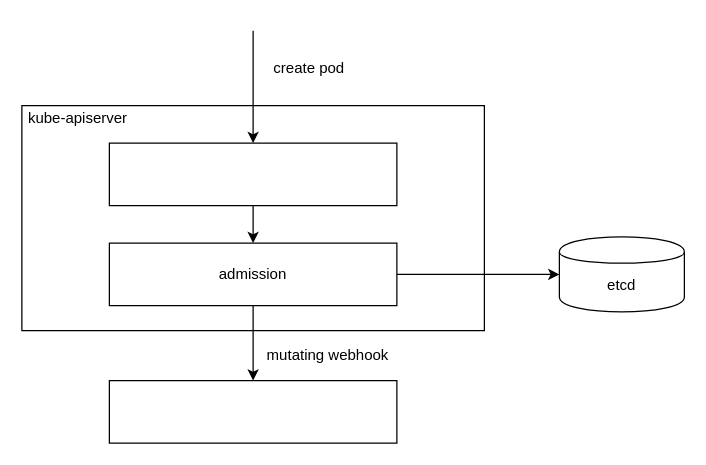
This 706x465 diagram has some shape labels left out. The shapes that lost their labels are listed below. From the top down, each one's centre as x and y in pixels, then its label:
(252,174): authn/z
(252,411): Sidecar Injector
